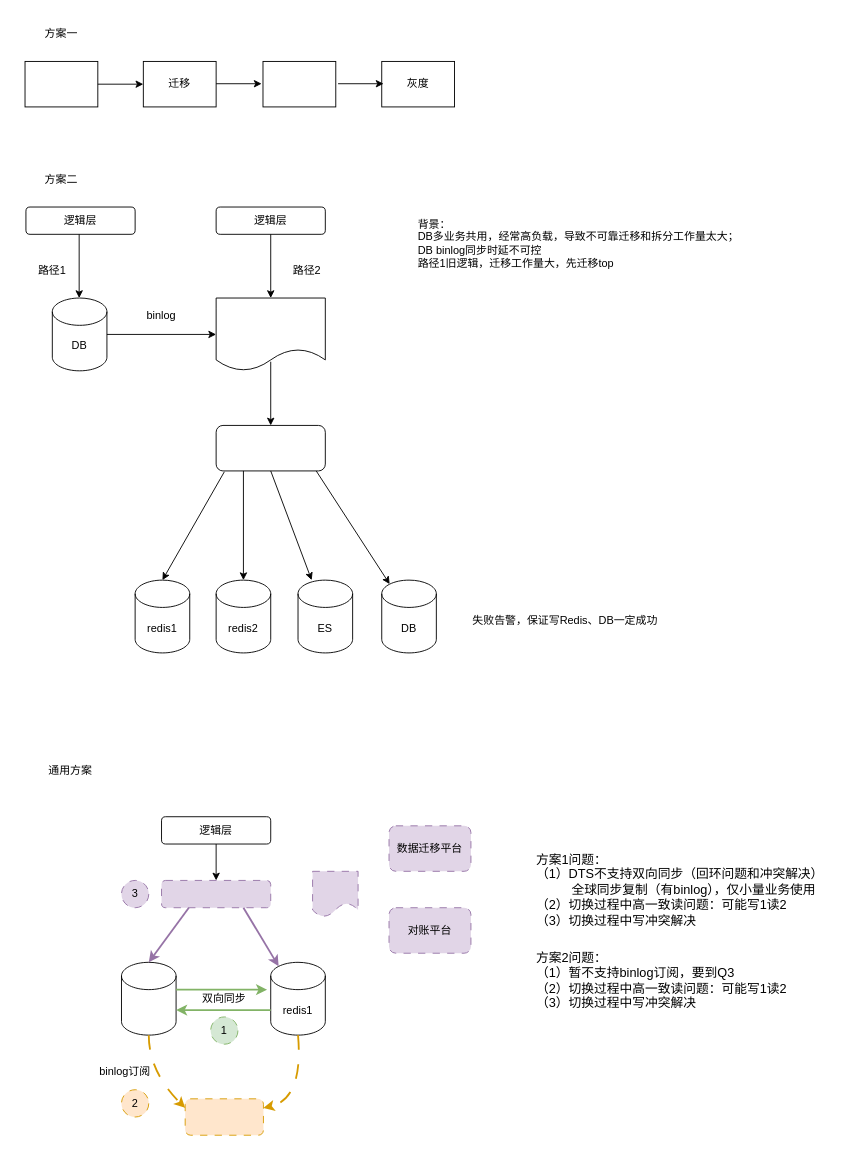
Some shapes in this 859 by 1151 pixel diagram are drawn without their labels. The centre of each missing label's shape, as x and y in pixels:
Proxy: (x=216, y=894)
redis0: (x=148, y=998)
SDK: (x=335, y=893)
双写: (x=61, y=84)
双读: (x=299, y=84)
同步服务: (x=223, y=1116)
消费者: (x=270, y=448)
队列: (x=270, y=334)
